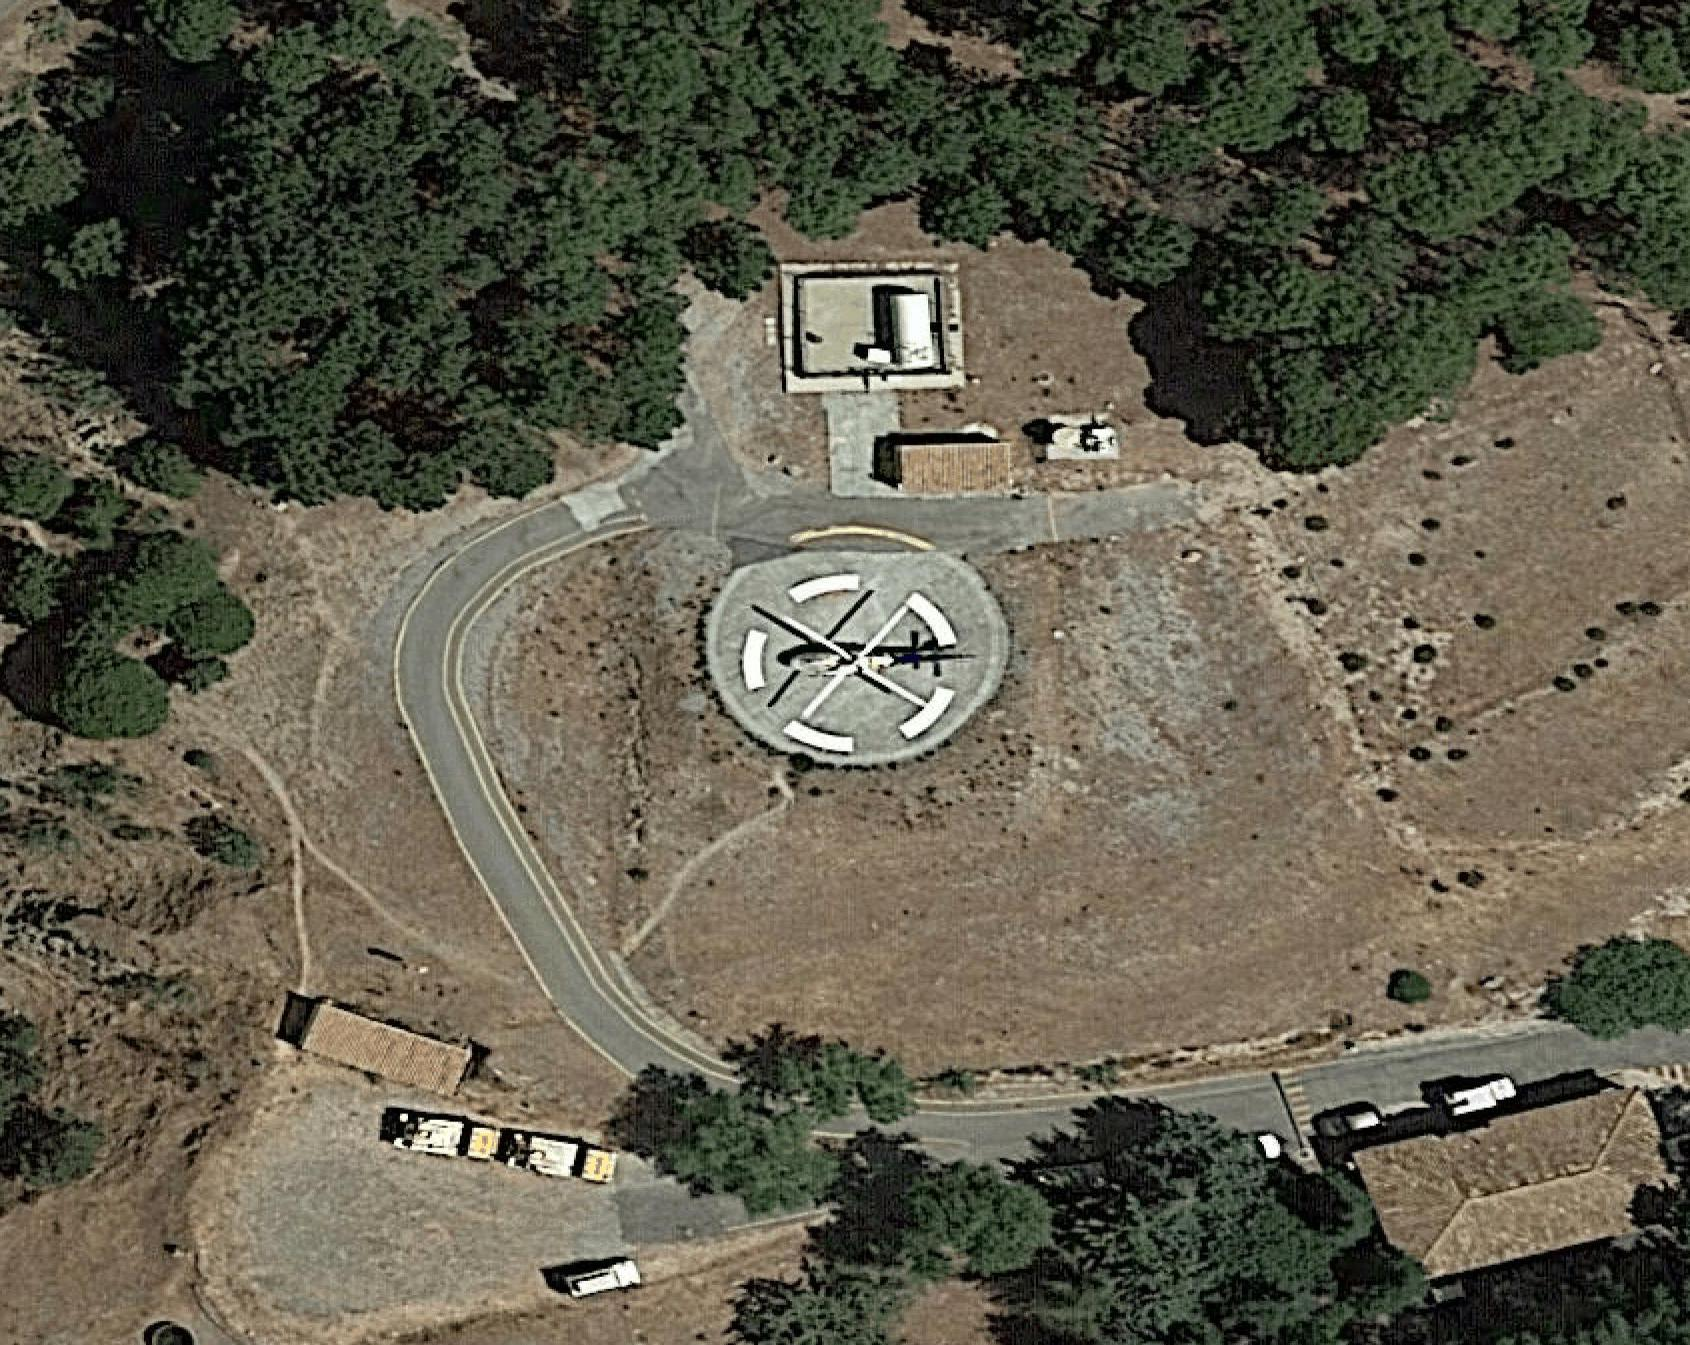helicopter: (771, 604, 970, 714)
helipad: (705, 548, 1008, 769)
large-vehicle: (380, 1106, 627, 1190)
